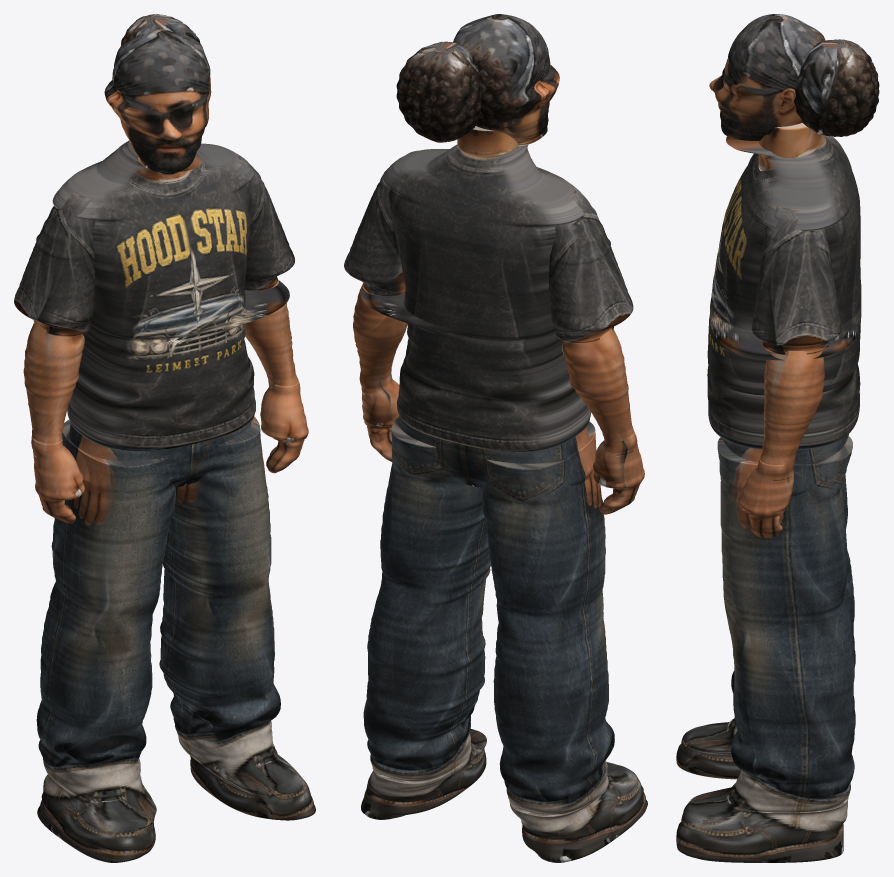
The model's file is hood-star-tee.glb.
The picture shows the model from 3 angles, left to right: view 1: azimuth 30°, elevation 25°; view 2: azimuth 150°, elevation 25°; view 3: azimuth 270°, elevation 25°; orthographic projection. The views are drawn at different scales.
Parts seen in each view (by area): view 1: Hood-Star-Tee body, Wide cuffed jeans L, Wide cuffed jeans R, Head, face and tied scarf, Hood-Star-Tee sleeve -1, Moc toe boot L, Forearm L, Moc toe boot R, Hood-Star-Tee sleeve 1, Denim waist, Hand and wrist R, Hand and wrist L (+2 smaller); view 2: Hood-Star-Tee body, Wide cuffed jeans L, Wide cuffed jeans R, Head, face and tied scarf, Hood-Star-Tee sleeve -1, Gathered curls, Moc toe boot L, Forearm L, Hood-Star-Tee sleeve 1, Denim waist, Moc toe boot R, Forearm R (+3 smaller); view 3: Wide cuffed jeans R, Hood-Star-Tee body, Hood-Star-Tee sleeve 1, Head, face and tied scarf, Moc toe boot R, Gathered curls, Forearm R, Hand and wrist R, Moc toe boot L, Wide cuffed jeans L, Neck, Denim waist.
Part boxes in pixels (box(x1,y1,x2,y2)): Hood-Star-Tee body: box(52, 140, 289, 451); Wide cuffed jeans L: box(36, 419, 175, 829); Wide cuffed jeans R: box(159, 416, 288, 796); Head, face and tied scarf: box(104, 29, 211, 174); Hood-Star-Tee sleeve -1: box(14, 192, 95, 336); Moc toe boot L: box(37, 771, 155, 862); Forearm L: box(23, 322, 84, 457); Moc toe boot R: box(178, 736, 315, 820); Hood-Star-Tee sleeve 1: box(235, 153, 294, 290); Denim waist: box(69, 419, 253, 487); Hand and wrist R: box(260, 380, 308, 473); Hand and wrist L: box(31, 437, 84, 523); Hood-Star-Tee body: box(360, 144, 591, 452); Wide cuffed jeans L: box(482, 422, 620, 814); Wide cuffed jeans R: box(363, 416, 491, 781); Head, face and tied scarf: box(453, 14, 559, 146); Hood-Star-Tee sleeve -1: box(548, 188, 633, 343); Gathered curls: box(396, 41, 481, 142); Moc toe boot L: box(509, 763, 647, 862); Forearm L: box(562, 329, 635, 456); Hood-Star-Tee sleeve 1: box(344, 150, 417, 296); Denim waist: box(398, 416, 593, 488); Moc toe boot R: box(361, 730, 486, 819); Forearm R: box(353, 284, 407, 394); Wide cuffed jeans R: box(683, 436, 855, 829); Hood-Star-Tee body: box(707, 135, 861, 449); Hood-Star-Tee sleeve 1: box(751, 206, 841, 354); Head, face and tied scarf: box(709, 14, 825, 140); Moc toe boot R: box(676, 795, 848, 862); Gathered curls: box(794, 39, 879, 136); Forearm R: box(760, 351, 824, 481); Hand and wrist R: box(738, 458, 793, 537); Moc toe boot L: box(676, 719, 741, 779); Wide cuffed jeans L: box(683, 475, 855, 755); Neck: box(758, 123, 821, 170); Denim waist: box(723, 434, 848, 496).
Size of the model in its own units: 0.6483 by 1.8 by 0.4208.
Materials: 15 (15 with a texture image).
